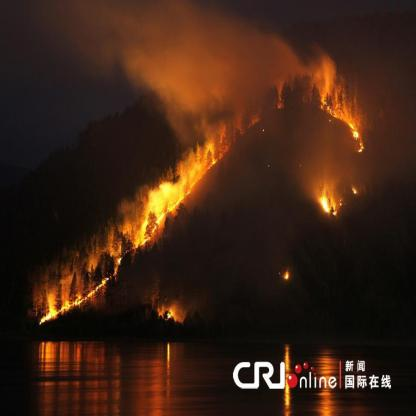fire: (126, 79, 307, 250), (31, 216, 131, 326), (304, 70, 366, 154), (316, 192, 341, 219), (156, 302, 184, 326), (279, 268, 291, 282), (349, 182, 360, 196)
